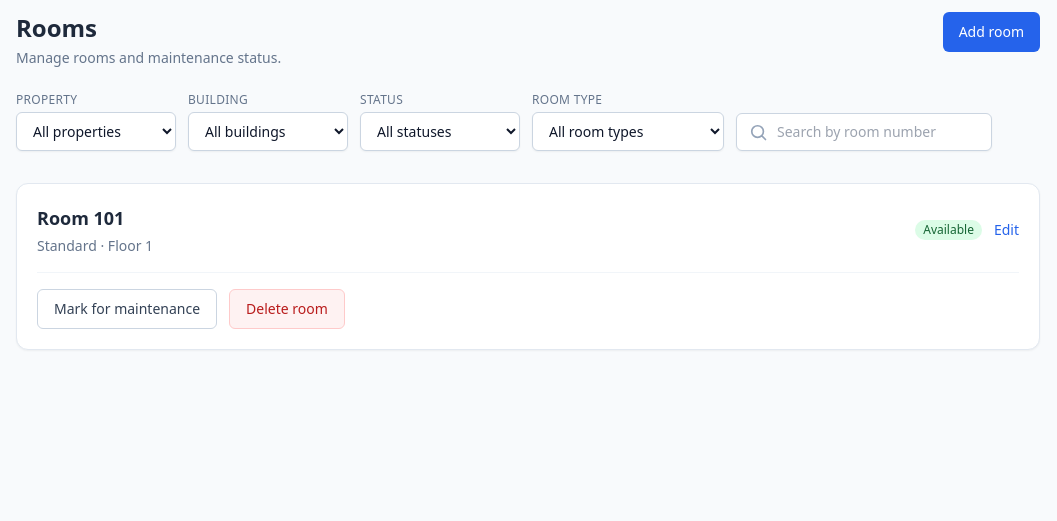
Test: Staff rooms list page › deletes a room after confirmation and shows a success banner
Click the button "Delete room": (287, 309) [229,289,345,329]
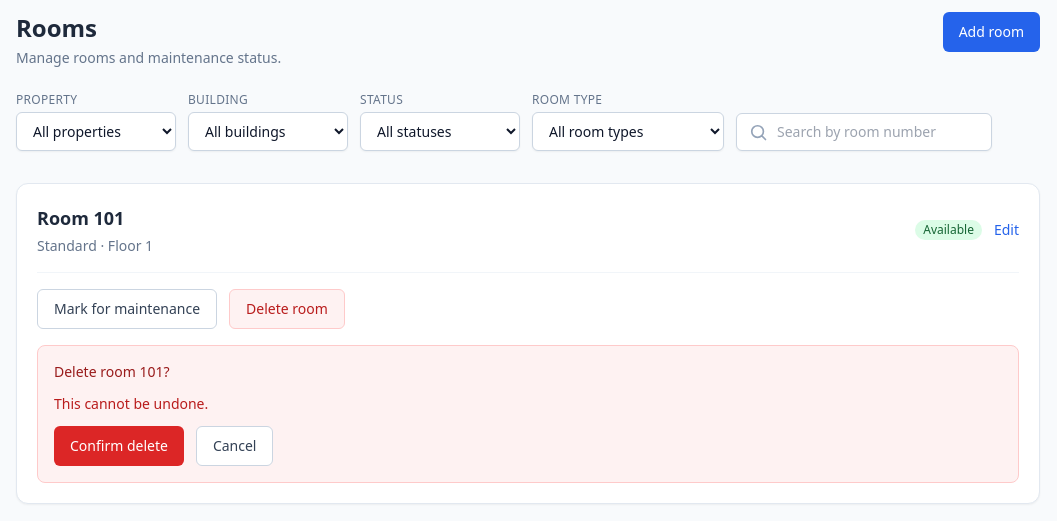
Expected: the text "Delete room 101?" is shown, [54,362,170,381]
Click the button "Confirm delete": (119, 446) [54,426,184,466]
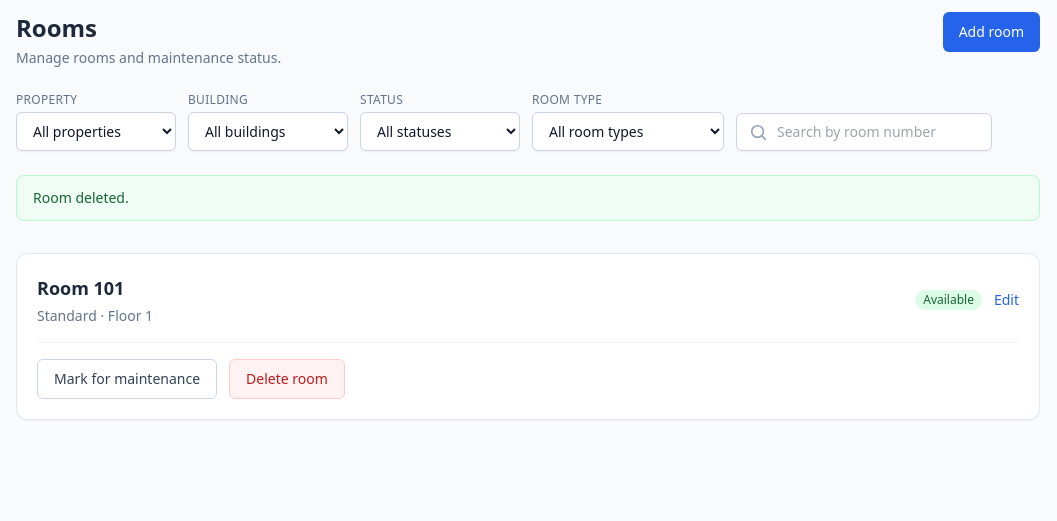
Expected: the text "Room deleted." is shown, [16,175,1040,221]
